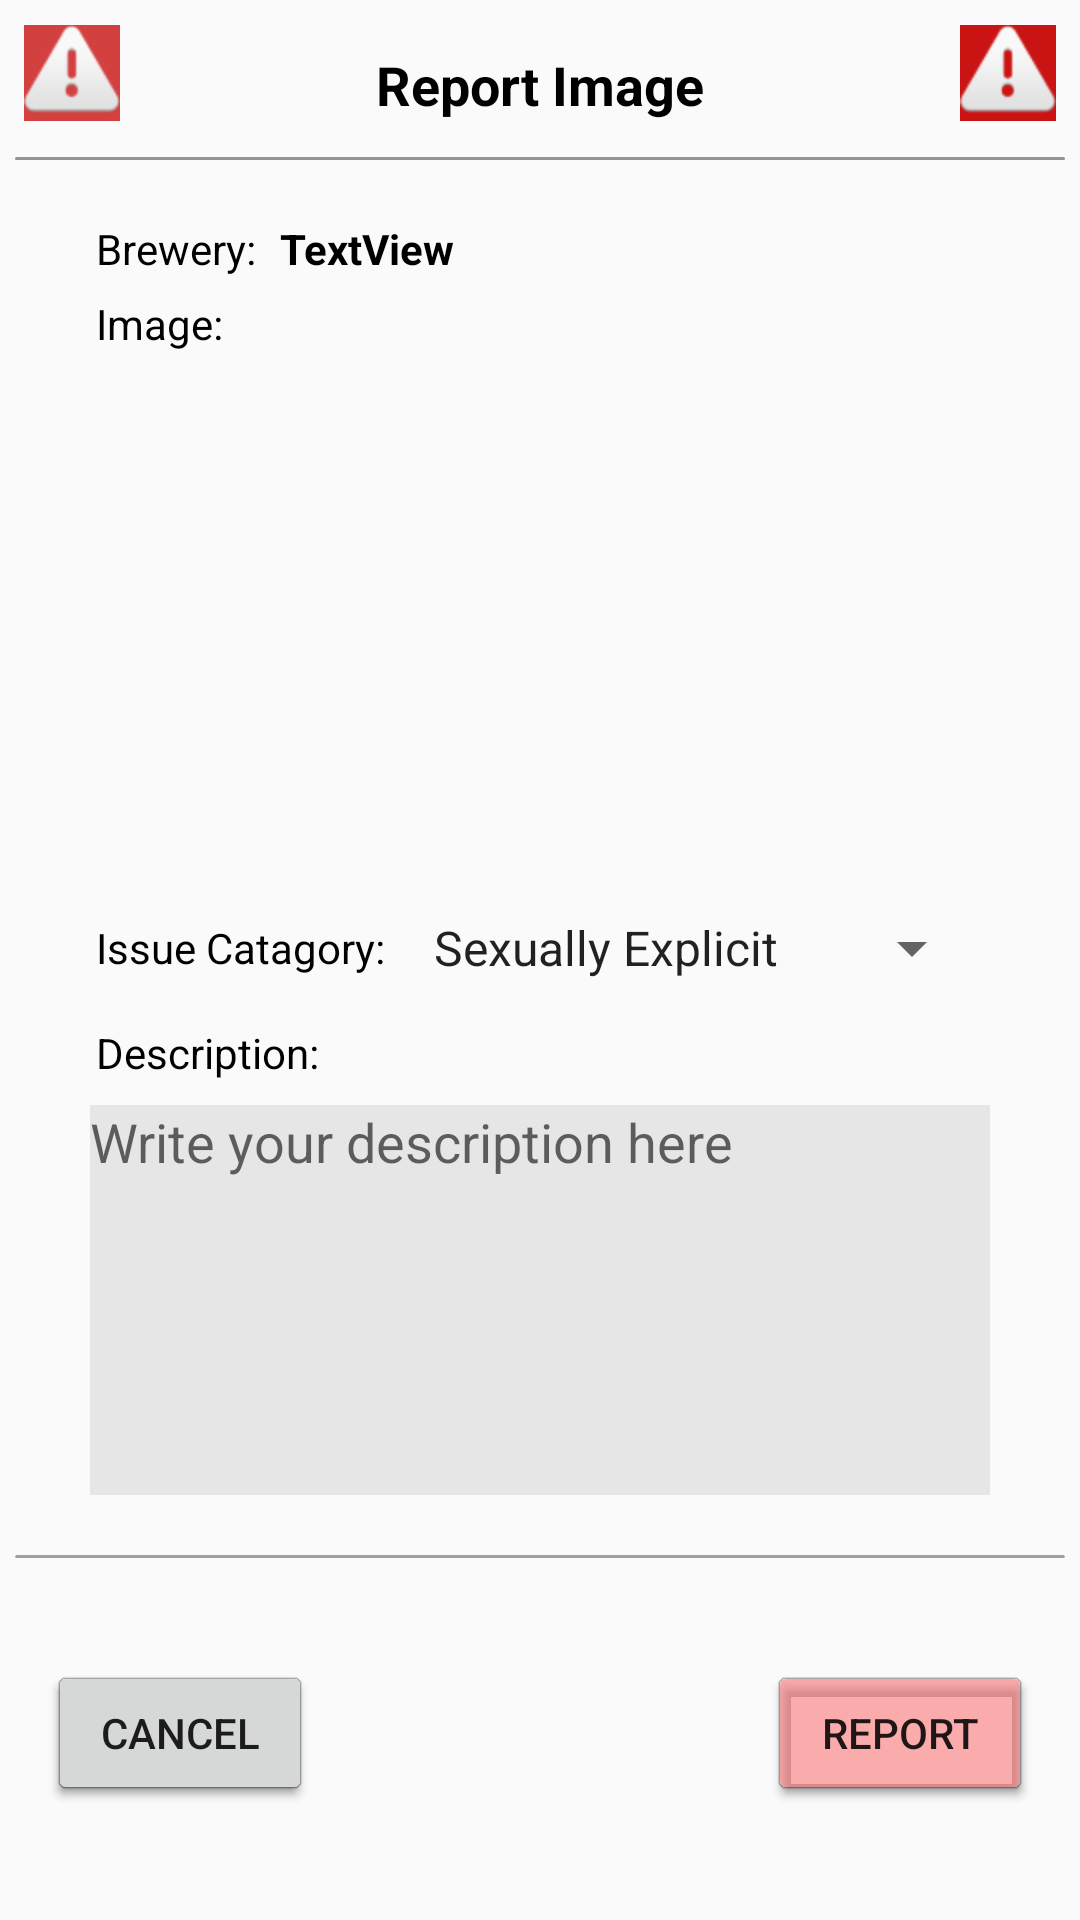

Icon bounding boxes for this 1080x1920 phone screenshot, format (x1, y1, x2, y2):
alert: (24, 25, 120, 121), (960, 25, 1056, 121)
